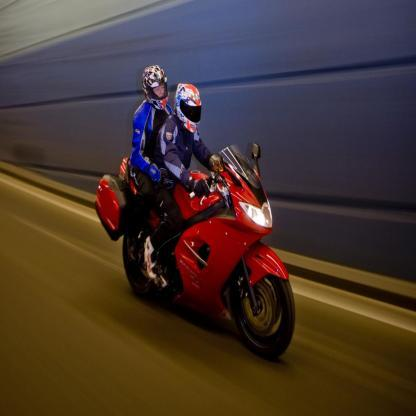helmet: (174, 83, 203, 134), (141, 64, 169, 111)
